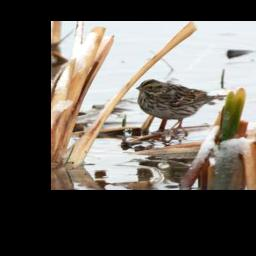Sparrow: (134, 78, 228, 139)
